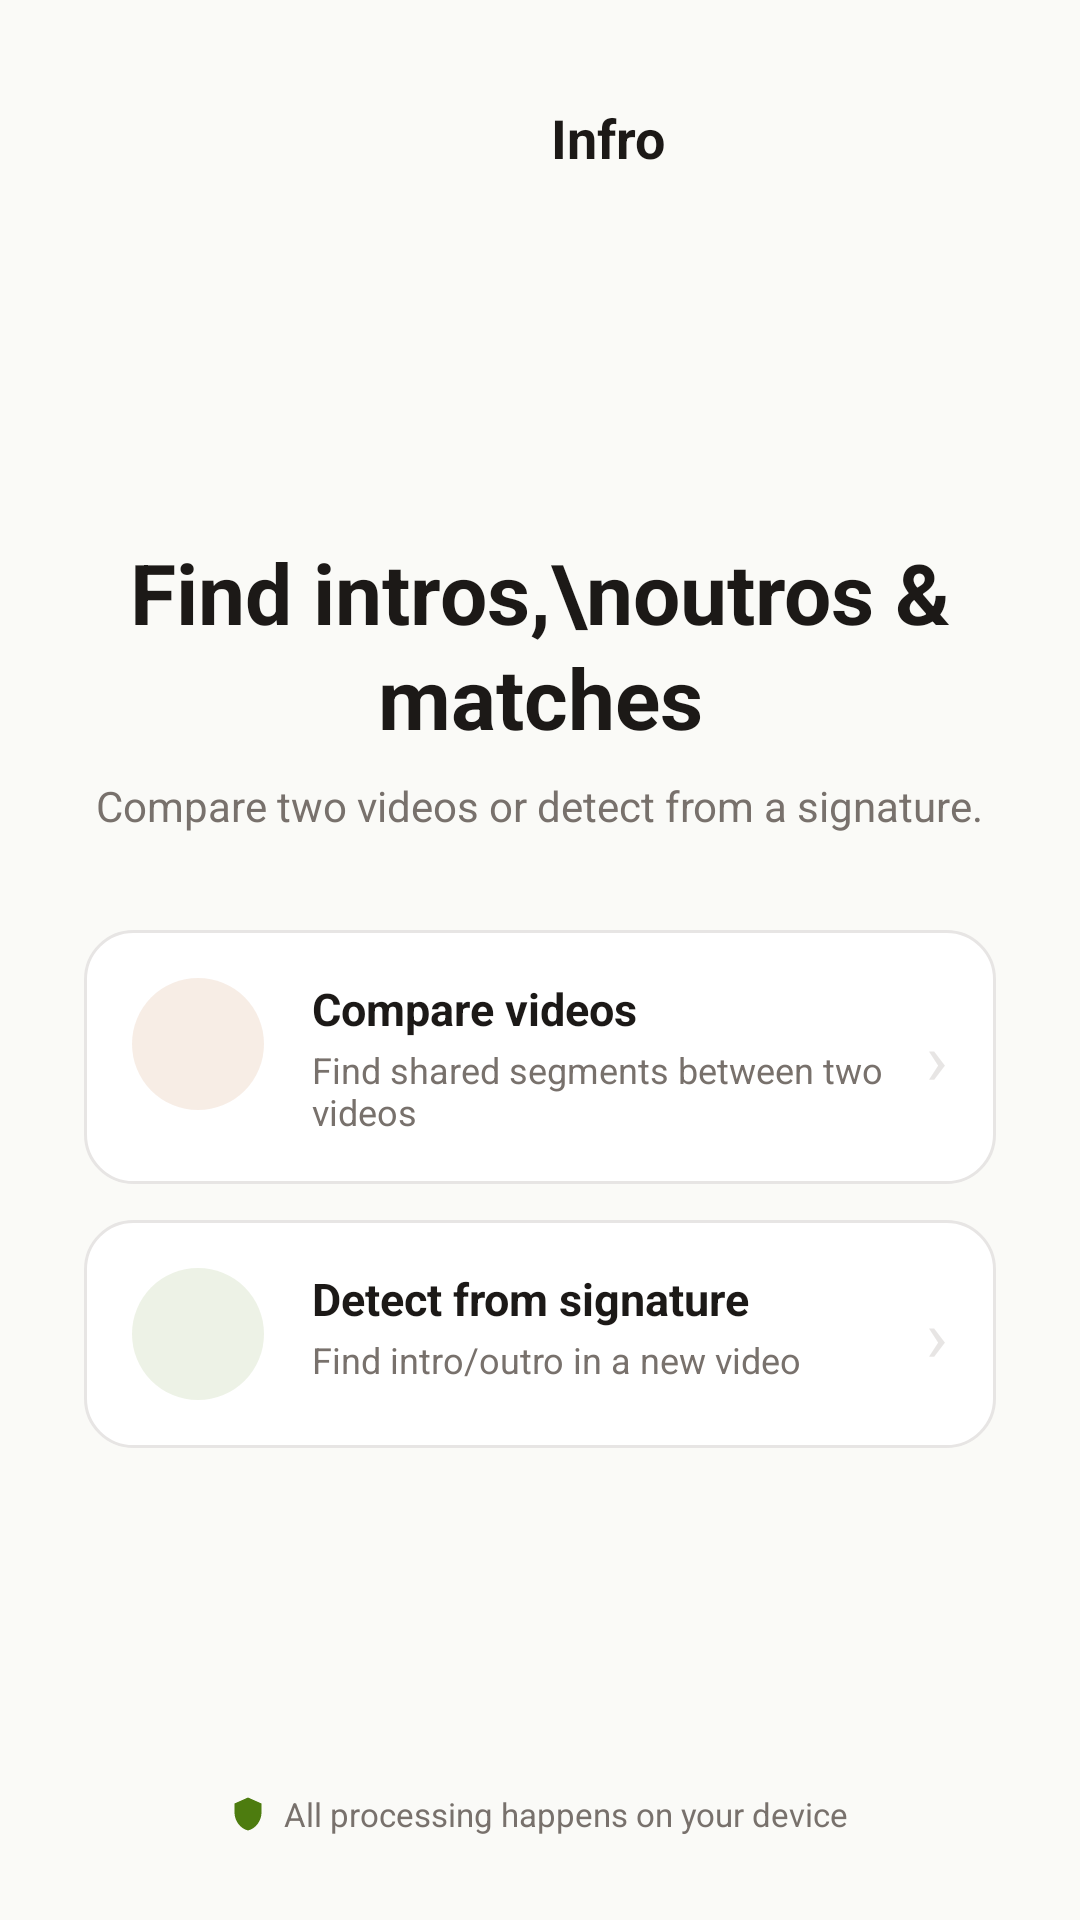

Point at icon controls on the screen. Image size 1080x1920, points as [x,y].
shield: [248,1814]
